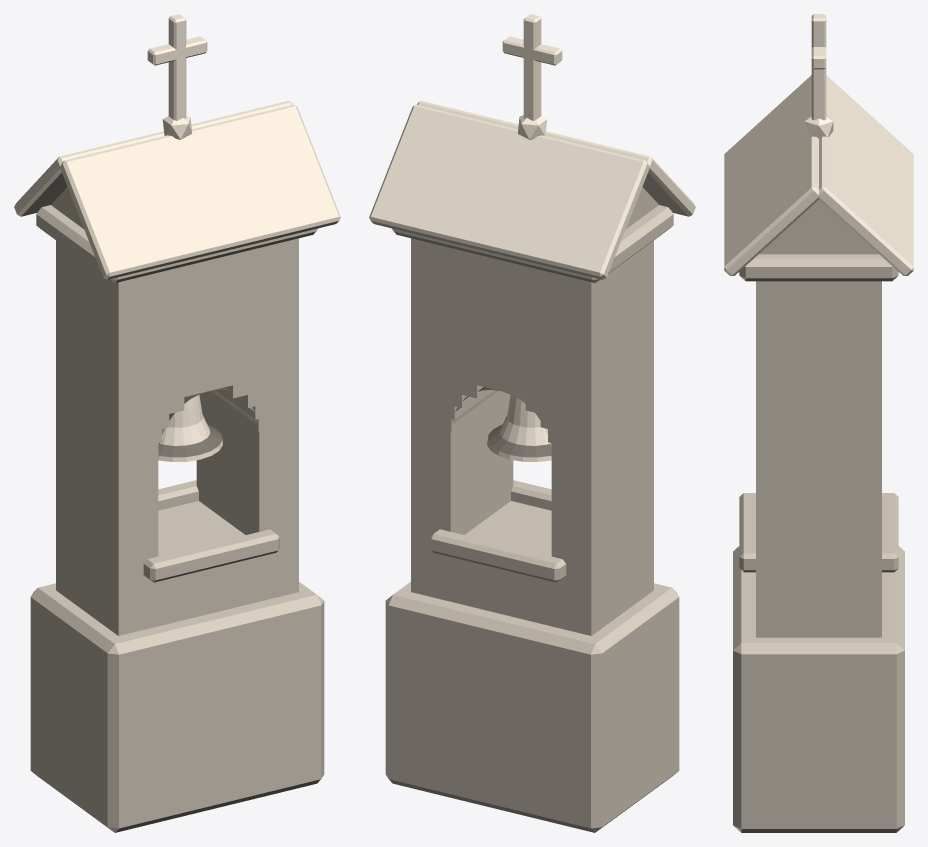
Rendered from SM_VK_Roof_Bellcote.fbx.
3 renders of one model, left to right at view 1: azimuth 30°, elevation 25°; view 2: azimuth 150°, elevation 25°; view 3: azimuth 270°, elevation 25°, orthographic.
Visible parts, largest first — view 1: SM_VK_Roof_Bellcote.001; view 2: SM_VK_Roof_Bellcote.001; view 3: SM_VK_Roof_Bellcote.001.
Boxes of the visible parts, left/top/right/bottom form: SM_VK_Roof_Bellcote.001: left=14, top=14, right=340, bottom=832; SM_VK_Roof_Bellcote.001: left=369, top=14, right=695, bottom=832; SM_VK_Roof_Bellcote.001: left=724, top=14, right=913, bottom=832.
Size of the model in its own units: 1.3 by 4.04 by 0.9051.
